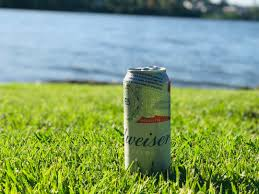can: (124, 65, 172, 171)
